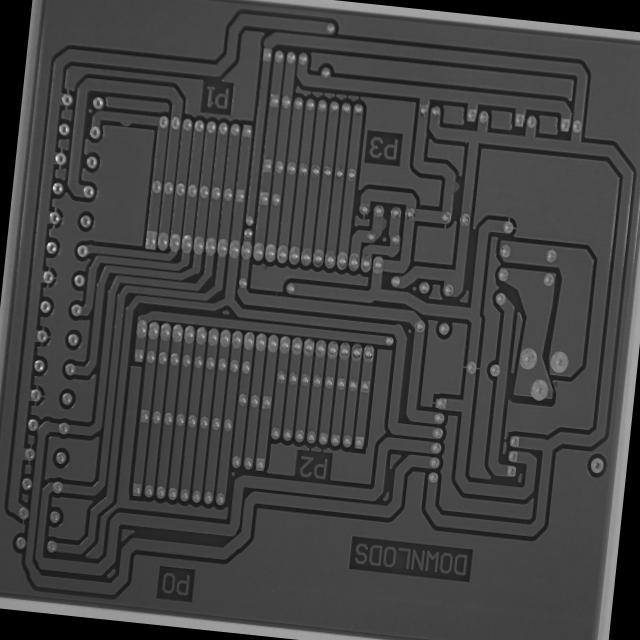spur: (448, 173, 462, 196), (116, 114, 134, 130), (376, 213, 390, 233)
